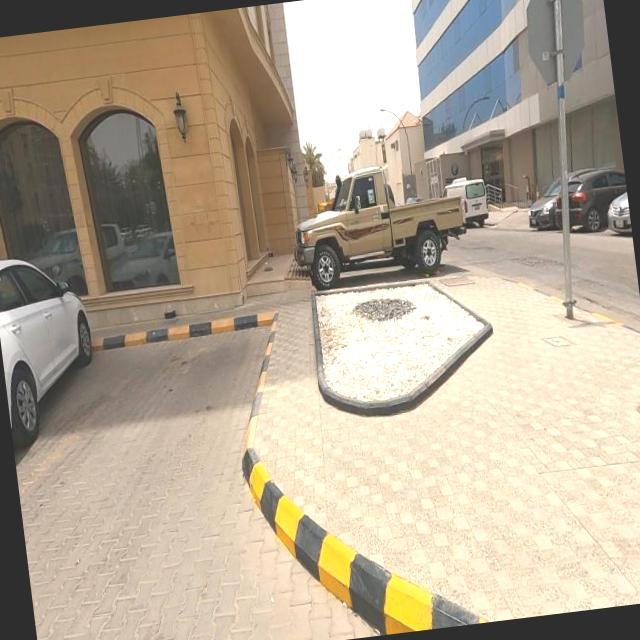debris: (134, 272, 202, 352), (238, 242, 294, 300)
